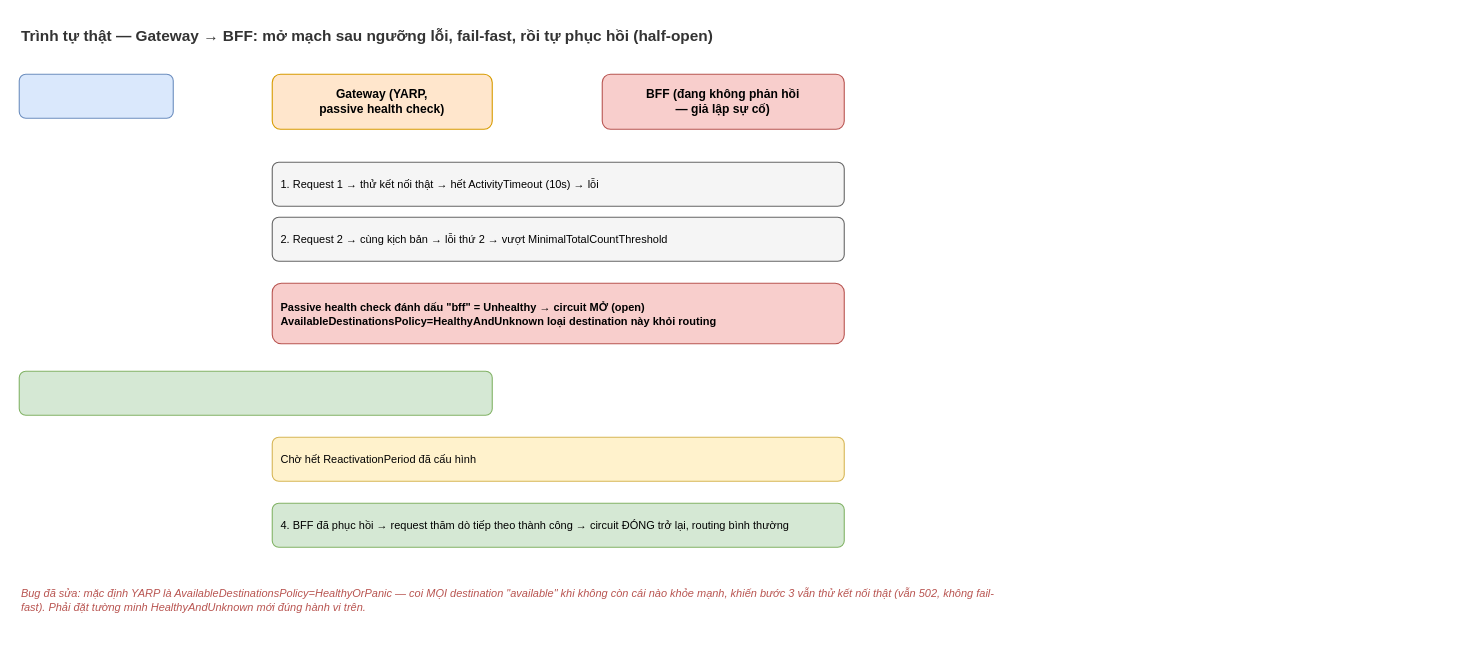
This 1469x659 diagram has some shape labels left out. The shapes that lost their labels are listed below. From the top down, each one's box as (x1, y1, x2, y2) in pixels, then its label:
(18, 73, 173, 118): Client
(18, 370, 492, 415): 3. Request 3 → gateway KHÔNG thử kết nối thật → trả 503 ngay (đo được ~20ms)
